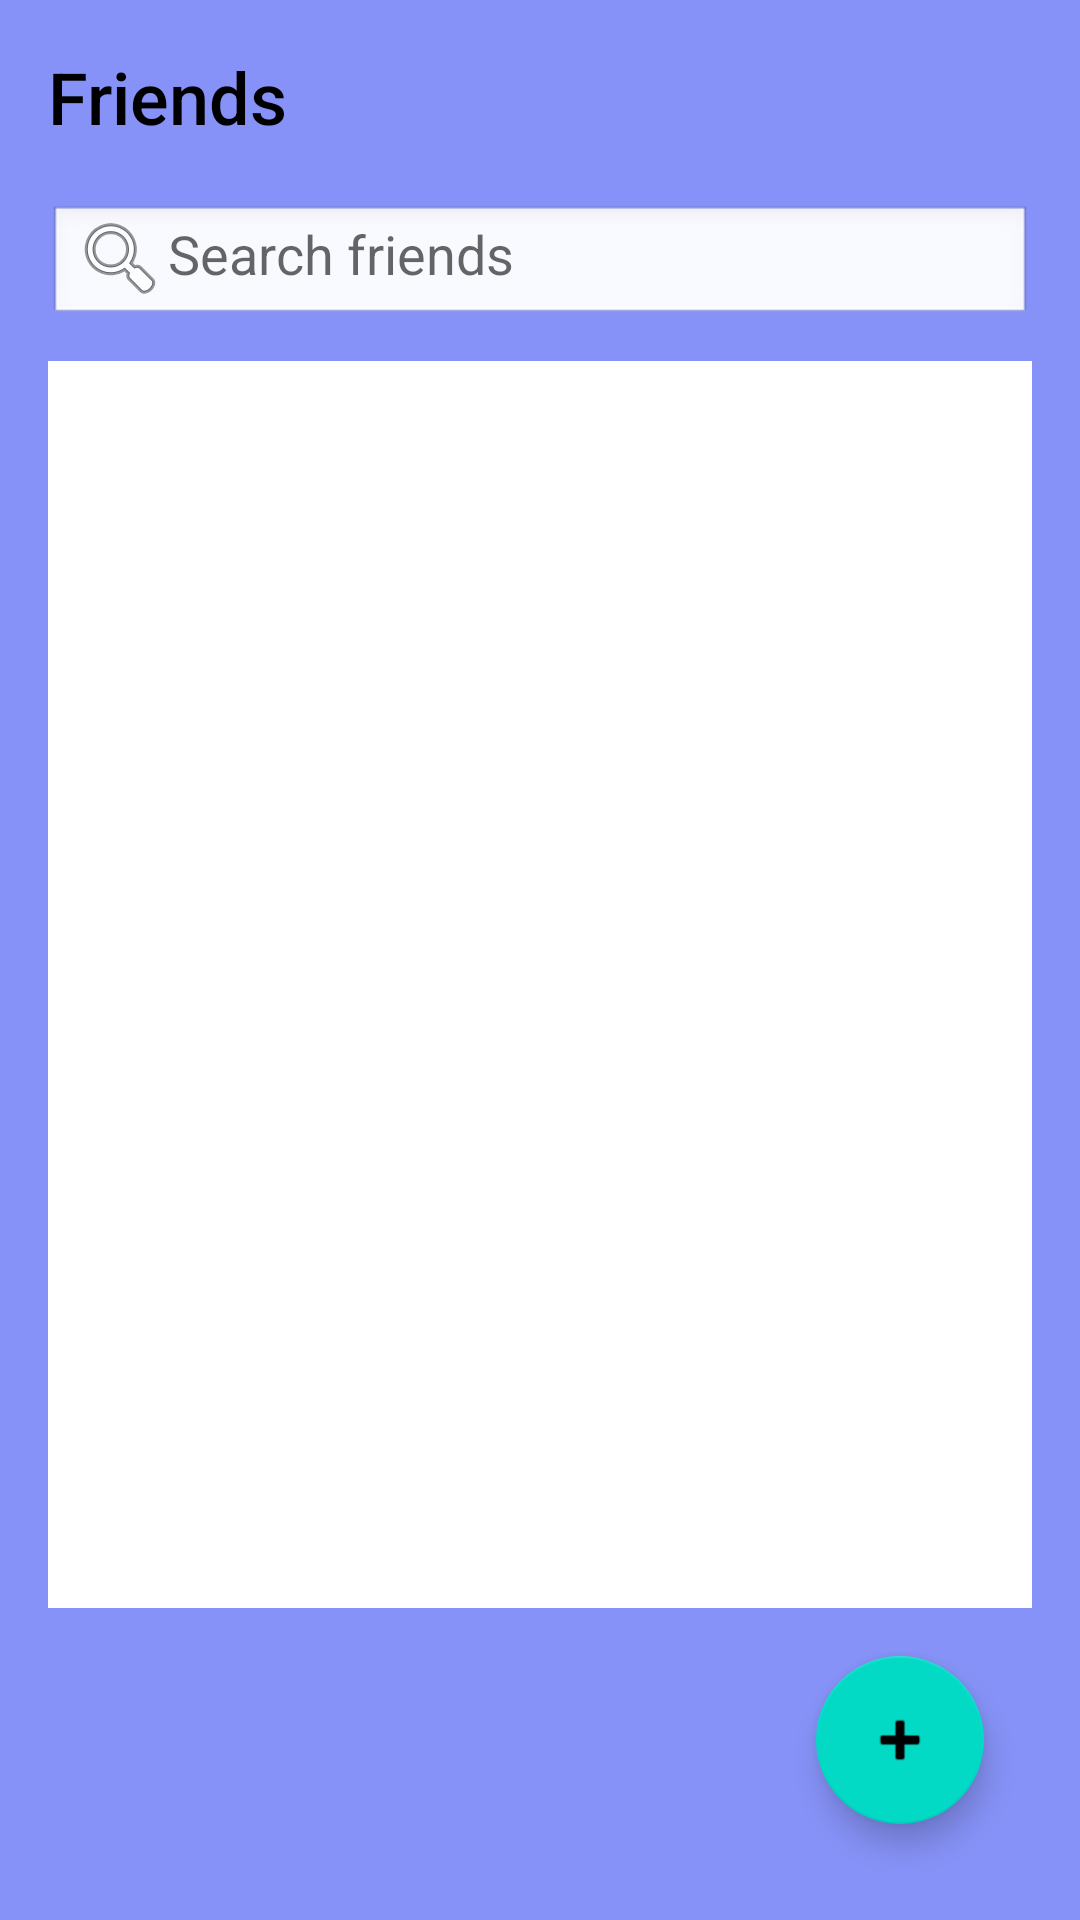

Screen size 1080x1920. Icon name, then its box in pixels as bbox(x1, y1, x2, y2):
Add Friend: bbox(816, 1656, 984, 1824)
